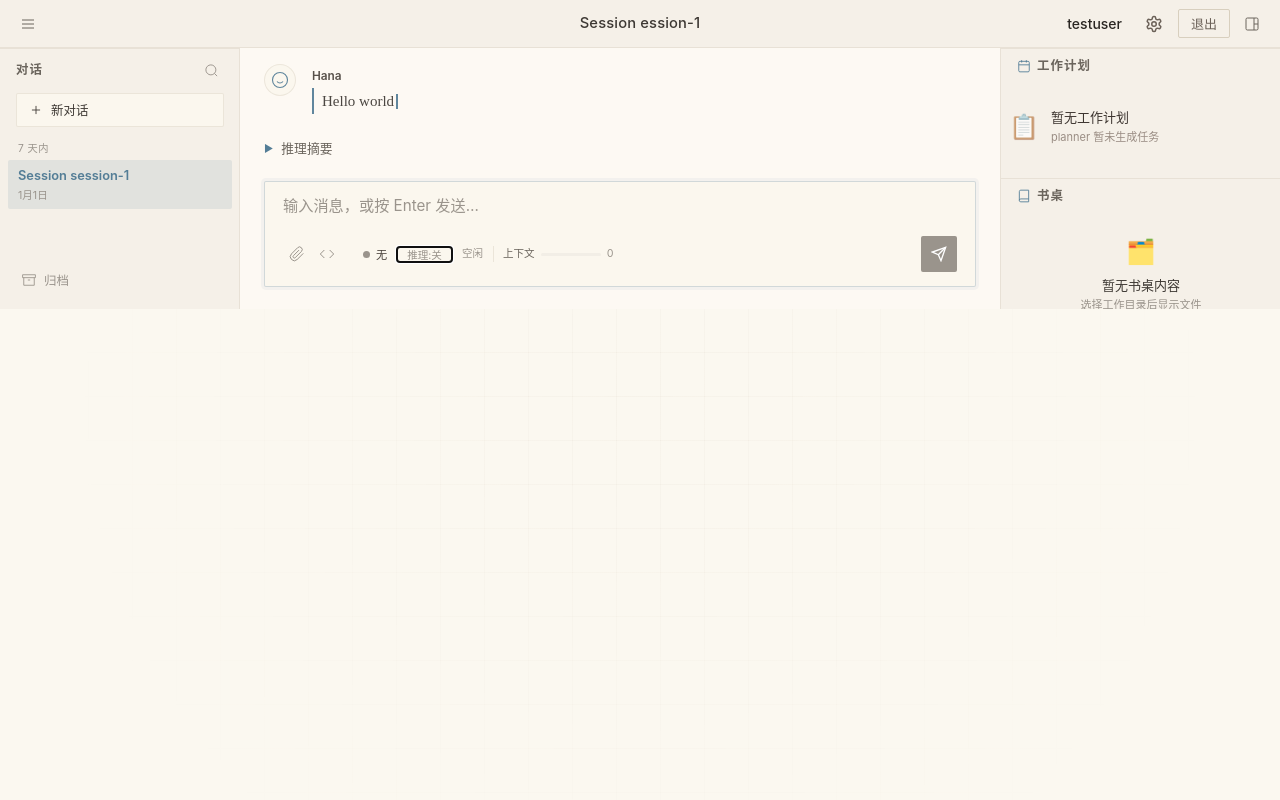
Scenario: ChatPage reasoning visibility (T9) › renders server-driven thinking_summary live events and keeps reasoning out of assistant draft content
Expected: the element with test id "chat-message-assistant" shows "Hello world", x1=322 y1=93 x2=394 y2=109
Expected: the element with test id "chat-message-assistant" does not show "REASONING_FIXTURE_12345"
Click the button "▶ 推理摘要": (307, 149) x1=264 y1=138 x2=944 y2=157
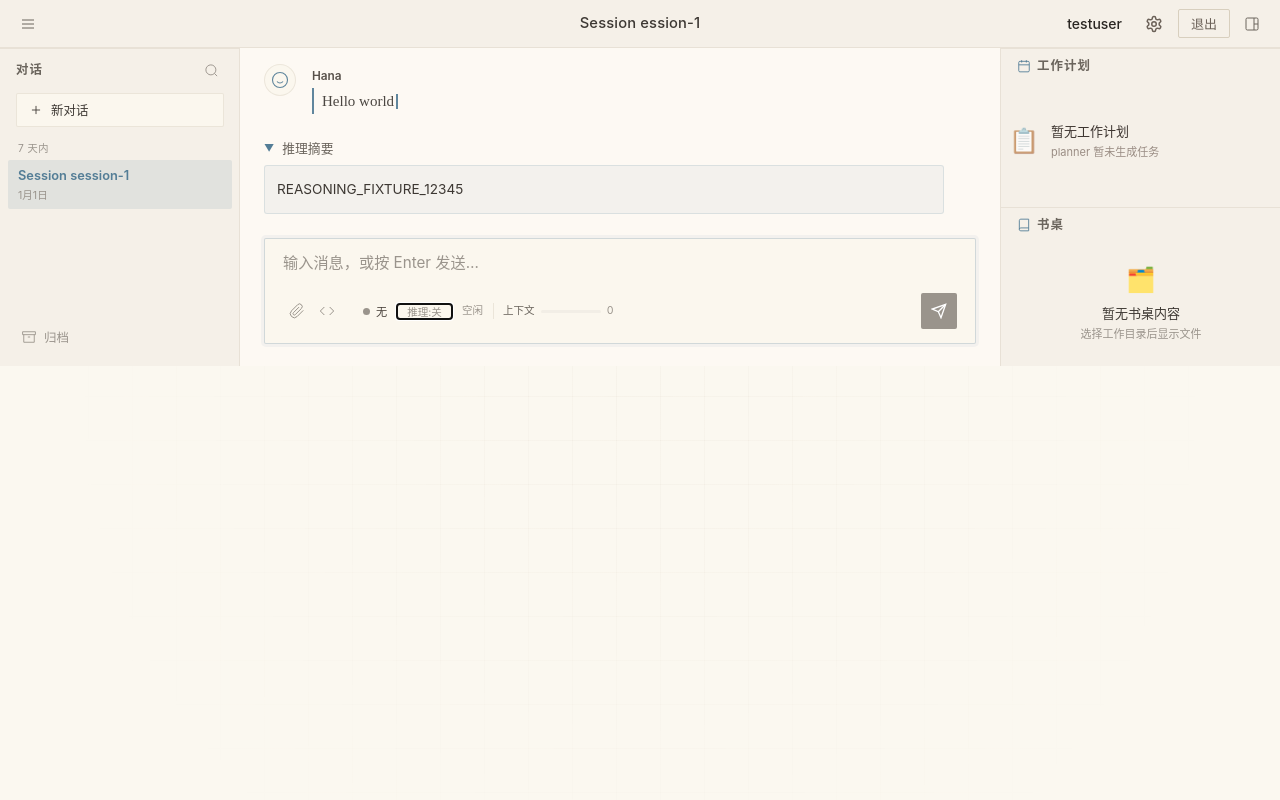
Result: the text "REASONING_FIXTURE_12345" is shown at x1=277 y1=181 x2=463 y2=197
